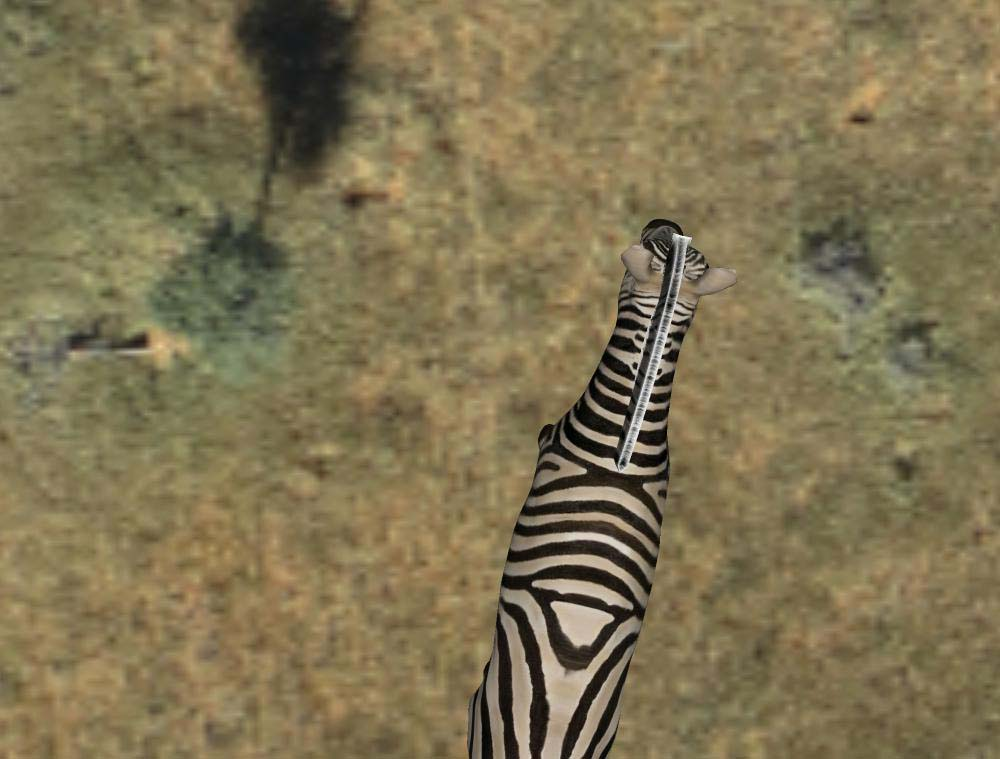zebra: (464, 200, 736, 759)
